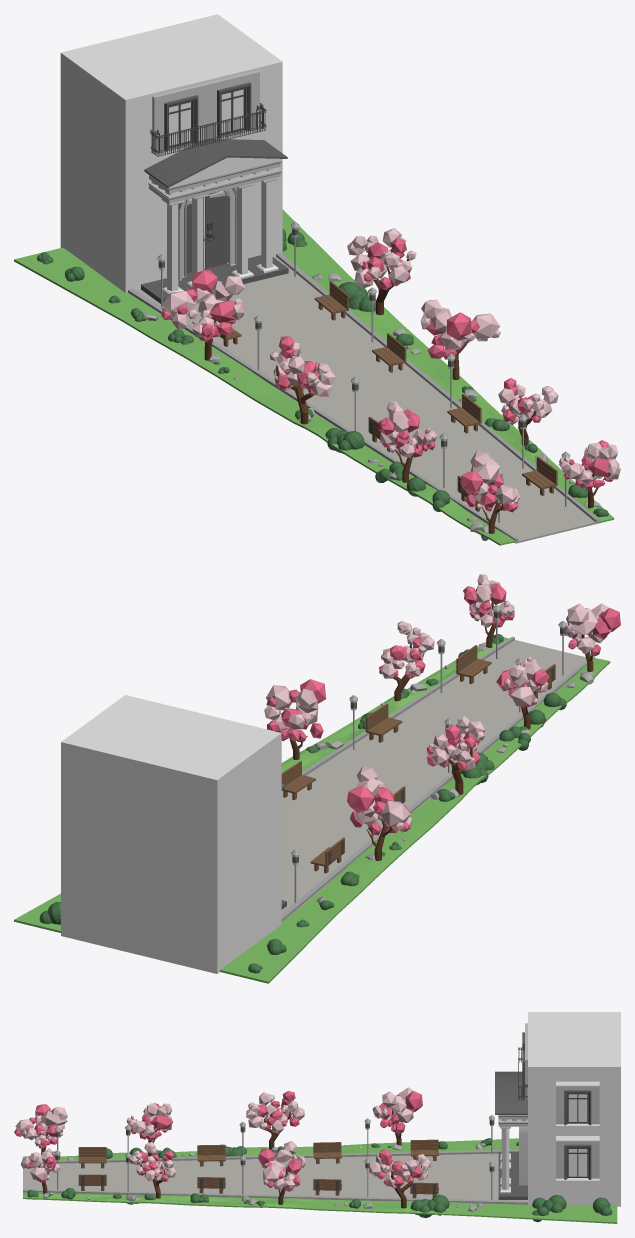
The model's file is campus_002.fbx.
3 renders of one model, top to bottom at view 1: azimuth 30°, elevation 25°; view 2: azimuth 150°, elevation 25°; view 3: azimuth 270°, elevation 25°, orthographic. The views are drawn at different scales.
Visible parts, largest first — view 1: campus1, polySurface419, polySurface416, polySurface417, polySurface420, polySurface418; view 2: campus1, polySurface419, polySurface416, polySurface417, polySurface420, polySurface418; view 3: campus1, polySurface419, polySurface417, polySurface416, polySurface418, polySurface420.
Boxes of the visible parts, <box> form: campus1: <box>60,14,288,303</box>; polySurface419: <box>136,256,598,543</box>; polySurface416: <box>14,247,515,545</box>; polySurface417: <box>282,209,614,523</box>; polySurface420: <box>128,289,518,541</box>; polySurface418: <box>276,252,598,522</box>; campus1: <box>61,695,286,973</box>; polySurface419: <box>281,640,586,913</box>; polySurface416: <box>220,658,610,983</box>; polySurface417: <box>14,637,508,932</box>; polySurface420: <box>281,656,594,921</box>; polySurface418: <box>281,636,514,790</box>; campus1: <box>495,1012,620,1206</box>; polySurface419: <box>23,1153,527,1200</box>; polySurface417: <box>23,1192,617,1223</box>; polySurface416: <box>23,1138,518,1160</box>; polySurface418: <box>23,1189,527,1204</box>; polySurface420: <box>56,1149,518,1163</box>.
Size of the model in its own units: 48.54 by 37.57 by 139.
